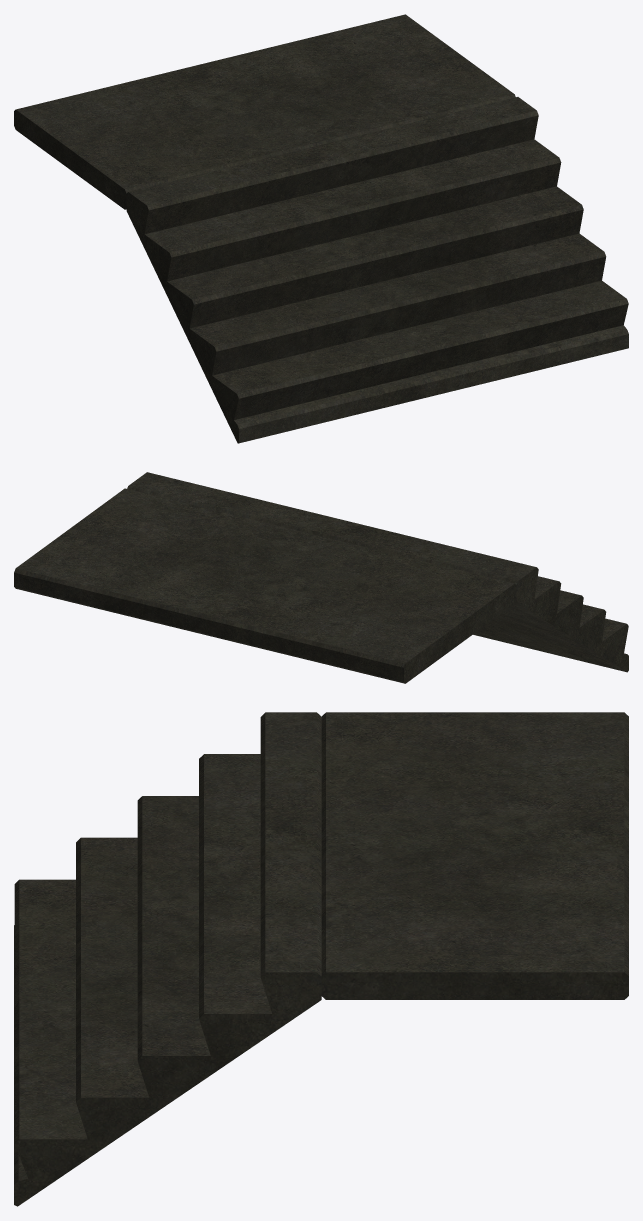
File: stairs_4.fbx
3 renders of one model, top to bottom at view 1: azimuth 30°, elevation 25°; view 2: azimuth 150°, elevation 25°; view 3: azimuth 270°, elevation 25°, orthographic. The views are drawn at different scales.
Parts seen in each view (by area): view 1: stairs_4; view 2: stairs_4; view 3: stairs_4.
Part boxes in pixels (x1,y1,x2,y2): stairs_4: (14, 14, 628, 443); stairs_4: (14, 472, 628, 683); stairs_4: (14, 712, 628, 1206).
Size of the model in its own units: 4 by 4 by 1.68.
